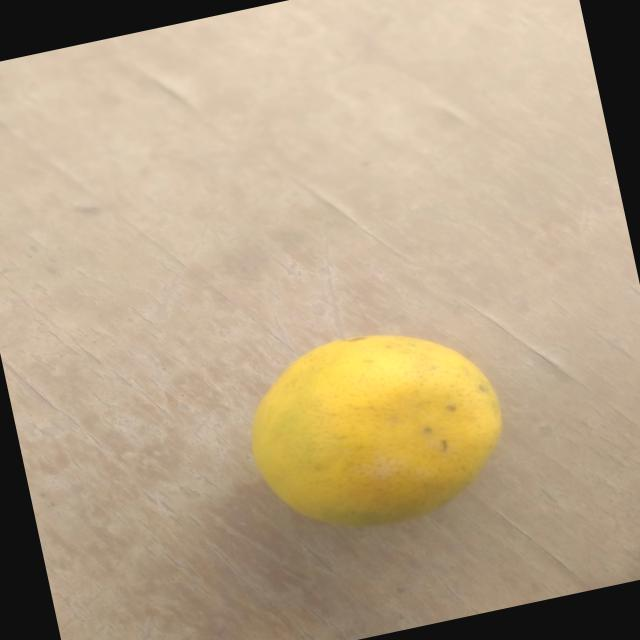Ripe orange: (212, 301, 535, 568)
